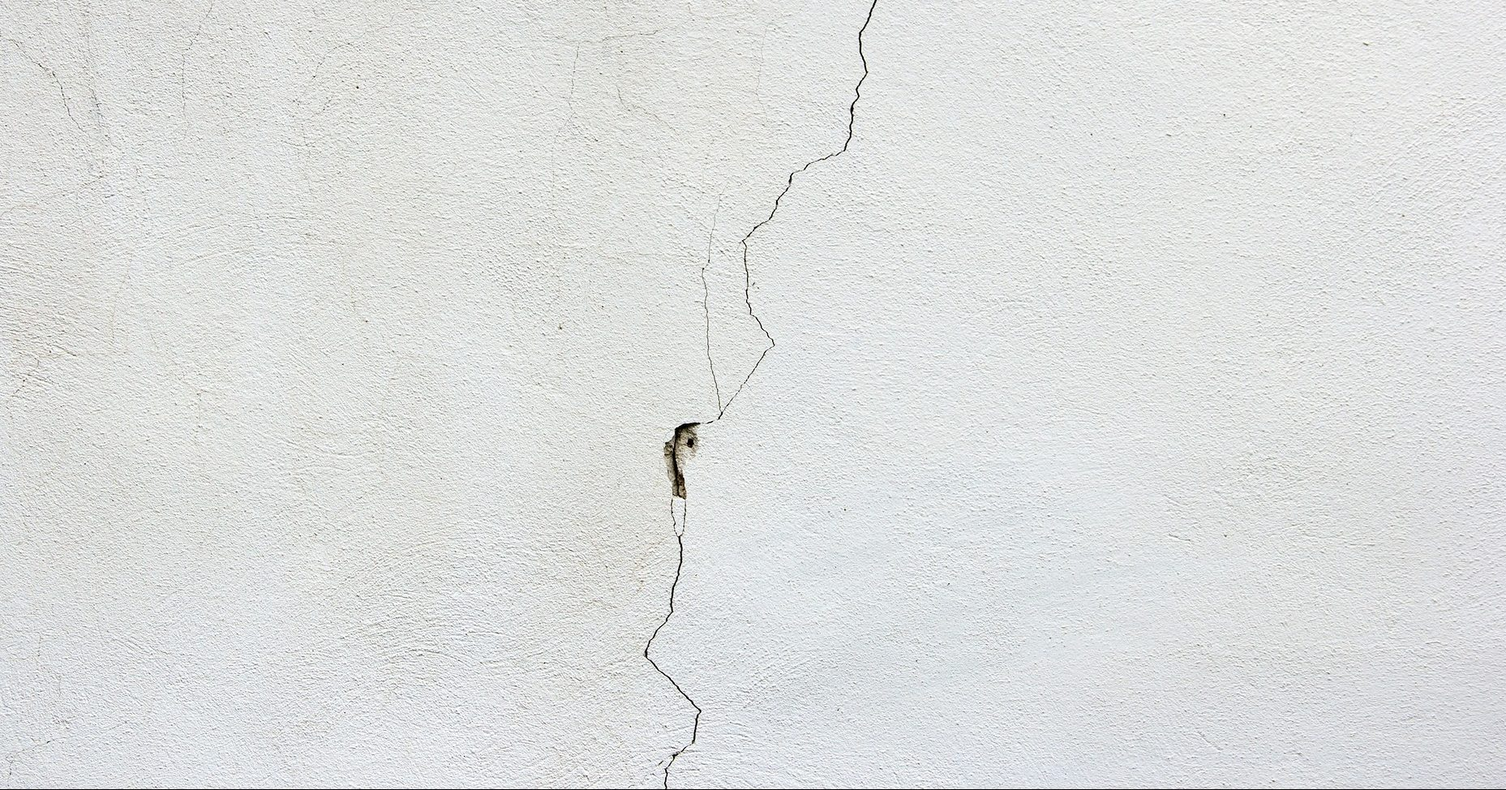crack: (638, 0, 874, 789)
